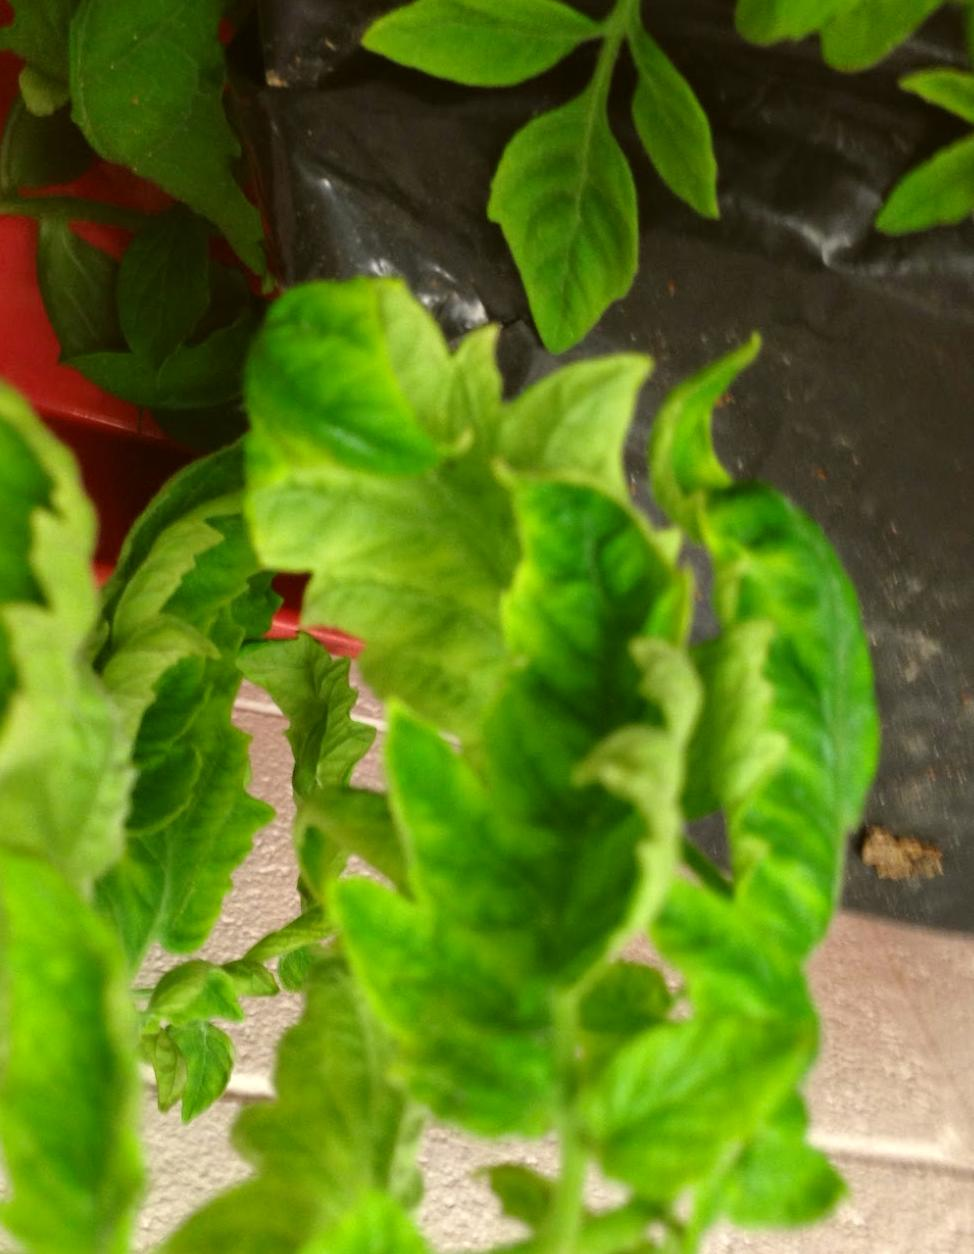Tomato leaf yellow virus: (370, 431, 713, 1193), (698, 466, 958, 1254), (0, 828, 181, 1254), (494, 78, 652, 346)
